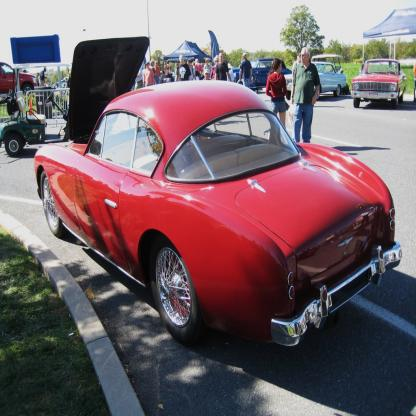Car: (39, 76, 386, 357), (1, 64, 73, 158), (351, 58, 407, 109), (283, 61, 347, 102), (230, 59, 294, 92), (1, 62, 38, 96), (313, 51, 346, 75), (414, 64, 416, 106)
